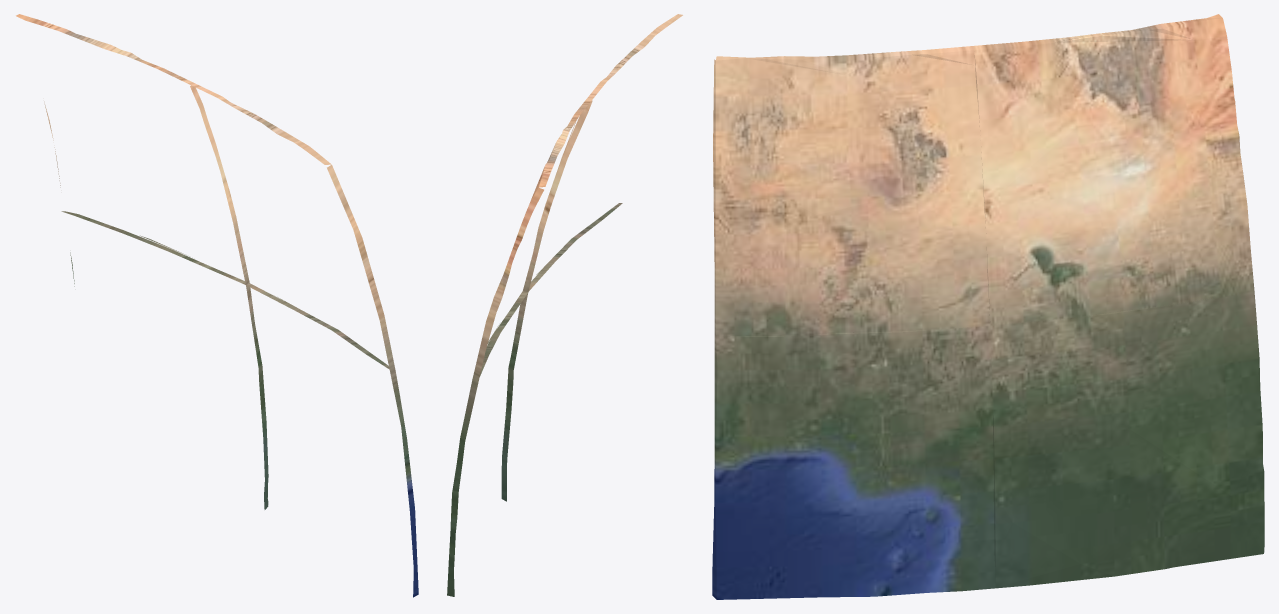
3 renders of one model, left to right at view 1: azimuth 30°, elevation 25°; view 2: azimuth 150°, elevation 25°; view 3: azimuth 270°, elevation 25°, orthographic. The views are drawn at different scales.
Size of the model in its own units: 975761 by 2458714 by 2468335.
Materials: 1 (1 with a texture image).
